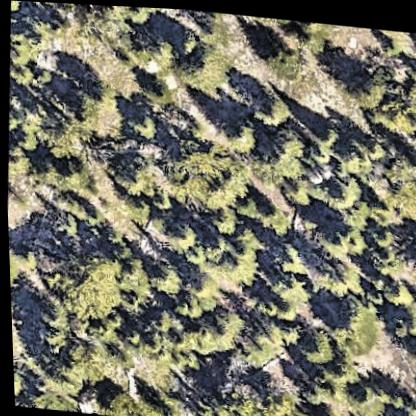tree-top: (53, 245, 124, 319), (169, 29, 226, 93), (187, 303, 243, 358), (305, 250, 365, 301), (167, 136, 217, 189), (36, 108, 84, 162), (267, 266, 310, 318), (201, 244, 249, 288), (343, 372, 390, 416), (322, 216, 368, 258), (214, 112, 257, 156), (295, 324, 336, 368), (249, 87, 292, 127), (202, 301, 242, 342), (238, 319, 277, 360), (347, 69, 384, 109), (86, 386, 135, 416), (60, 339, 101, 374), (144, 33, 178, 75), (161, 215, 198, 253), (269, 237, 307, 273), (186, 395, 248, 416), (144, 261, 179, 298), (329, 169, 364, 206), (336, 303, 371, 339), (386, 172, 416, 213), (266, 36, 299, 71), (337, 193, 372, 226), (7, 241, 28, 293), (27, 388, 73, 411), (301, 374, 334, 405), (333, 140, 365, 171), (127, 109, 158, 140), (385, 94, 416, 125), (282, 172, 312, 203), (114, 163, 146, 192), (112, 256, 146, 283), (206, 206, 236, 236), (297, 22, 327, 51), (228, 189, 258, 217), (382, 274, 411, 302), (58, 163, 86, 192), (272, 315, 300, 343), (5, 145, 28, 179), (174, 294, 204, 318), (404, 51, 416, 110), (88, 82, 114, 109), (382, 29, 407, 54), (384, 311, 410, 335), (33, 164, 58, 188), (124, 194, 147, 220), (136, 331, 162, 354), (148, 78, 172, 102), (313, 120, 337, 144), (145, 305, 169, 329), (402, 246, 416, 287), (310, 137, 332, 162), (57, 368, 78, 394), (362, 136, 387, 156), (120, 5, 151, 21), (400, 334, 416, 364), (40, 305, 60, 329), (188, 273, 211, 293), (12, 43, 33, 63), (15, 64, 34, 85), (34, 64, 53, 84), (276, 405, 310, 416), (11, 366, 21, 398), (185, 242, 202, 260), (404, 146, 416, 170), (7, 113, 20, 135), (403, 394, 416, 415), (9, 293, 16, 331), (10, 0, 23, 12), (54, 2, 76, 7)
